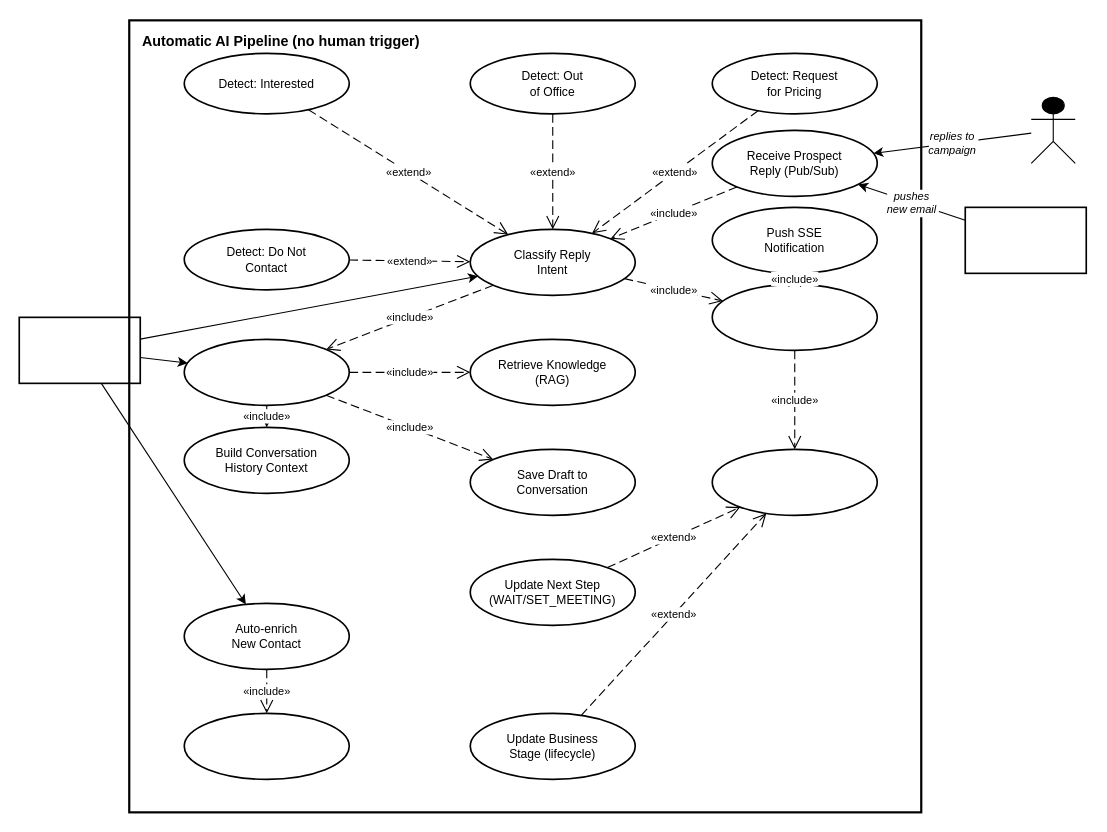
Some shapes in this 1107 by 832 pixel diagram are drawn without their labels. The box of each missing label's shape, as (x1, y1, x2, y2) in pixels:
Calculate Segment Scores: (183, 712, 350, 780)
Generate AI Draft Reply: (183, 338, 350, 406)
Prospect: (1030, 96, 1075, 163)
Transition Pipeline State: (711, 283, 878, 351)
Update Outreach Stage: (711, 448, 878, 516)
«system» Gmail (Pub/Sub): (964, 206, 1087, 274)
«system» LLM Service (OpenAI): (18, 316, 141, 384)
